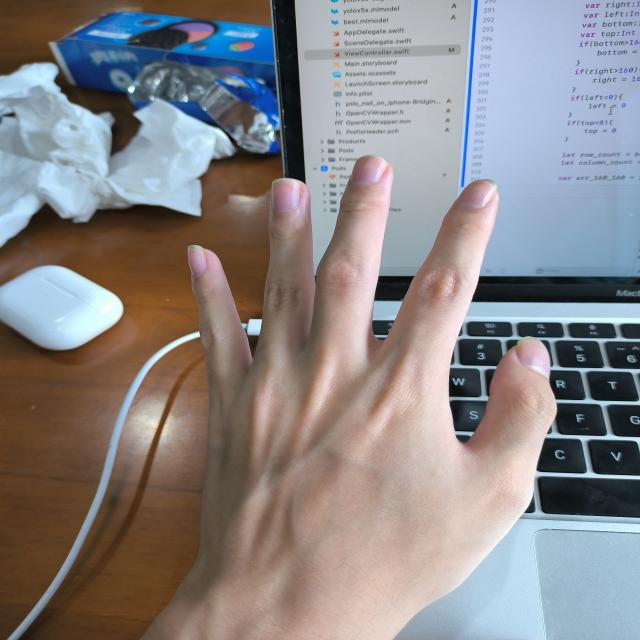Nail: (517, 337, 550, 381), (455, 179, 497, 210), (351, 154, 387, 185), (271, 178, 302, 213), (188, 245, 207, 277)
